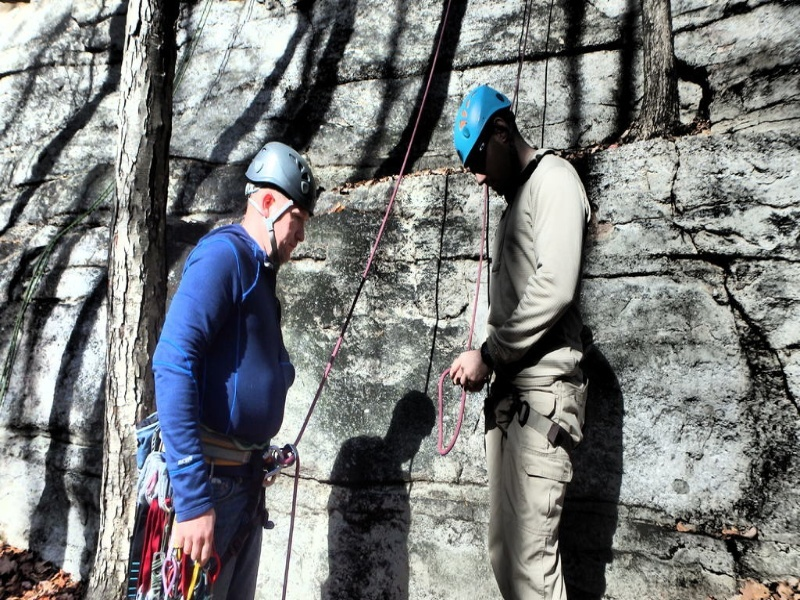Baret: (247, 140, 319, 214), (450, 84, 511, 162)
